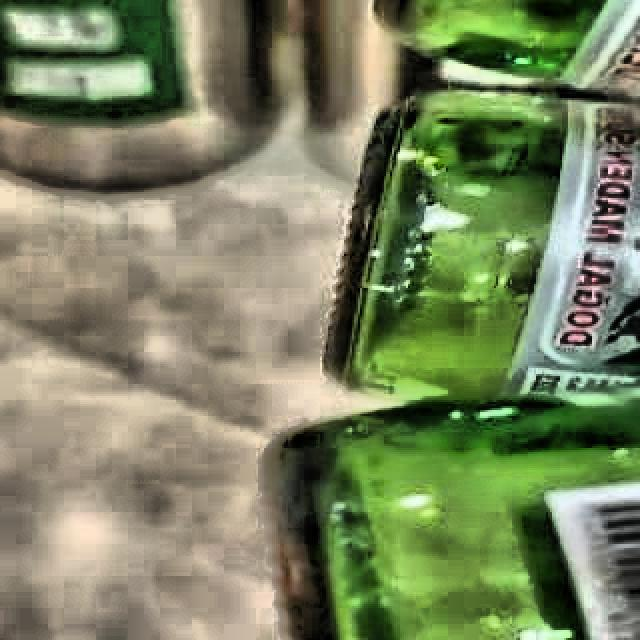glass: (269, 0, 640, 640)
